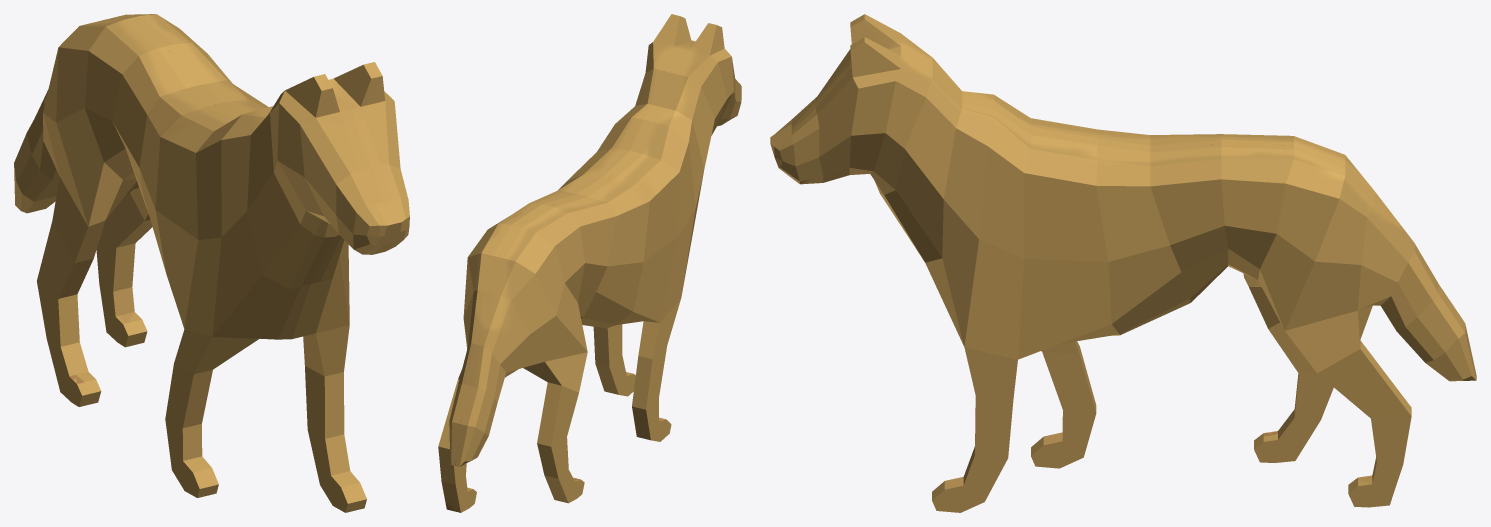
The model's file is DogWolf_Wiggle.fbx.
3 renders of one model, left to right at view 1: azimuth 30°, elevation 25°; view 2: azimuth 150°, elevation 25°; view 3: azimuth 270°, elevation 25°, orthographic. The views are drawn at different scales.
Parts seen in each view (by area): view 1: Plane; view 2: Plane; view 3: Plane.
Boxes of the visible parts, <box> form: Plane: <box>14,14,409,512</box>; Plane: <box>438,14,741,512</box>; Plane: <box>770,14,1476,512</box>.
Size of the model in its own units: 168 by 602 by 841.
